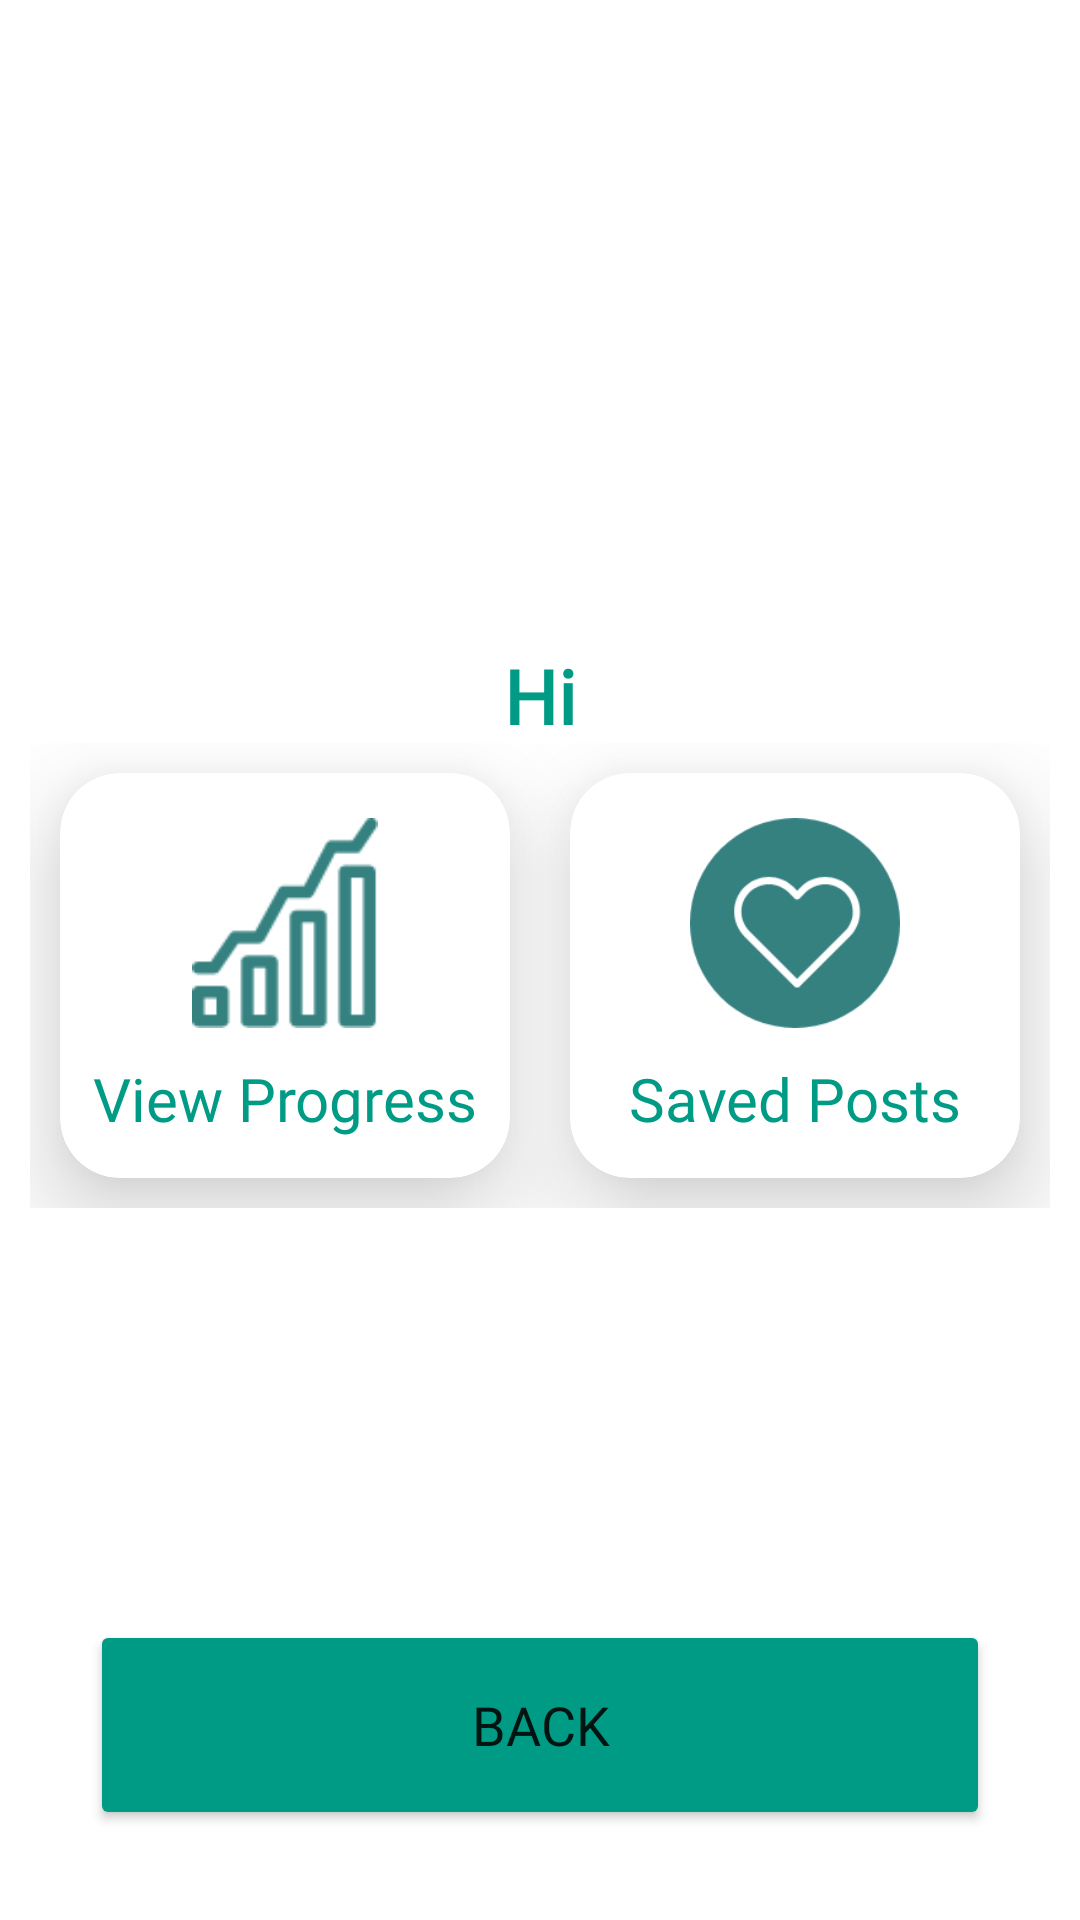

Screen size 1080px×1920px. Icon name, then its box in pixels as (x1, y1, x2, y2):
fav: (690, 818, 900, 1028)
